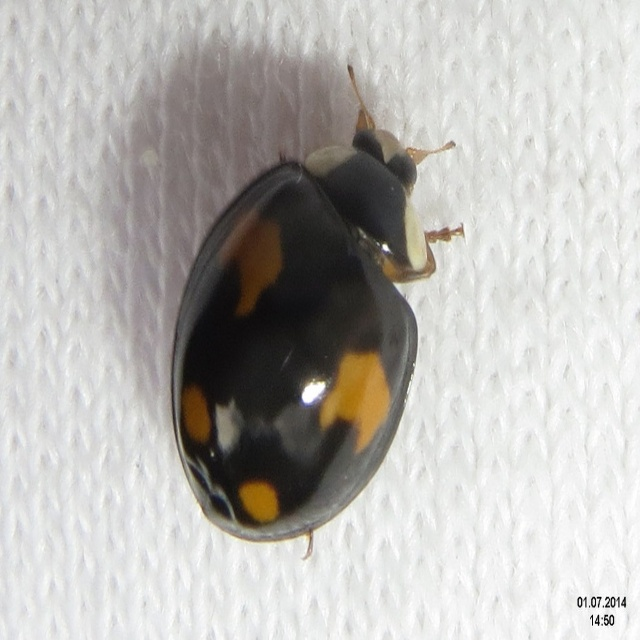Ladybug: (168, 61, 466, 559)
